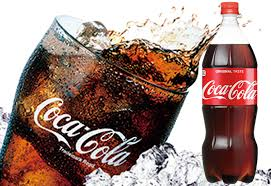coke: (3, 4, 195, 186), (199, 1, 264, 186)
